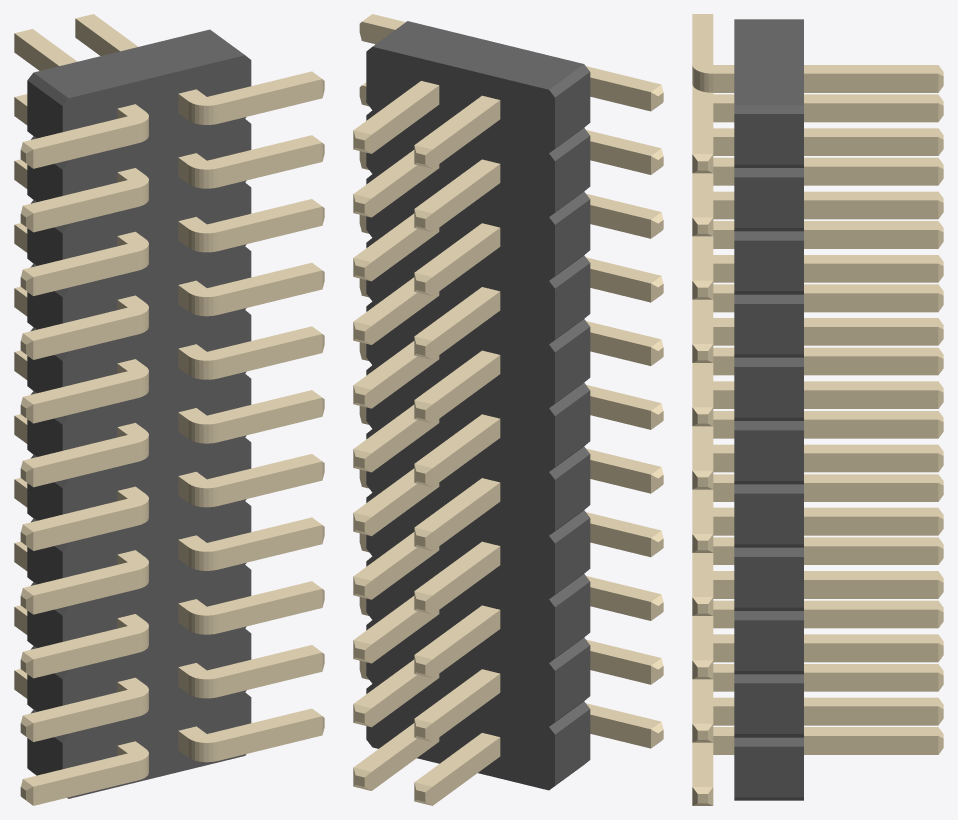
Rendered from PinHeader_2x11_P1.00mm_Vertical_SMD.glb.
The picture shows the model from 3 angles, left to right: view 1: azimuth 30°, elevation 25°; view 2: azimuth 150°, elevation 25°; view 3: azimuth 270°, elevation 25°; orthographic projection.
Parts seen in each view (by area): view 1: Shape_IndexedFaceSet.003, Shape_IndexedFaceSet.001, Shape_IndexedFaceSet.314, Shape_IndexedFaceSet.354, Shape_IndexedFaceSet.309, Shape_IndexedFaceSet.349, Shape_IndexedFaceSet.274, Shape_IndexedFaceSet.254, Shape_IndexedFaceSet.259, Shape_IndexedFaceSet.304, Shape_IndexedFaceSet.264, Shape_IndexedFaceSet.289 (+60 smaller); view 2: Shape_IndexedFaceSet.004, Shape_IndexedFaceSet.001, Shape_IndexedFaceSet.025, Shape_IndexedFaceSet.019, Shape_IndexedFaceSet.043, Shape_IndexedFaceSet.049, Shape_IndexedFaceSet.067, Shape_IndexedFaceSet.007, Shape_IndexedFaceSet.031, Shape_IndexedFaceSet.055, Shape_IndexedFaceSet.061, Shape_IndexedFaceSet.013 (+67 smaller); view 3: Shape_IndexedFaceSet.001, Shape_IndexedFaceSet.040, Shape_IndexedFaceSet.064, Shape_IndexedFaceSet.002, Shape_IndexedFaceSet.010, Shape_IndexedFaceSet.016, Shape_IndexedFaceSet.022, Shape_IndexedFaceSet.028, Shape_IndexedFaceSet.034, Shape_IndexedFaceSet.046, Shape_IndexedFaceSet.052, Shape_IndexedFaceSet.058 (+67 smaller).
Part boxes in pixels (x1,y1,x2,y2): Shape_IndexedFaceSet.003: (62, 55, 251, 798); Shape_IndexedFaceSet.001: (33, 29, 244, 98); Shape_IndexedFaceSet.314: (217, 79, 322, 123); Shape_IndexedFaceSet.354: (33, 761, 138, 805); Shape_IndexedFaceSet.309: (33, 124, 138, 168); Shape_IndexedFaceSet.349: (217, 716, 322, 760); Shape_IndexedFaceSet.274: (33, 506, 138, 550); Shape_IndexedFaceSet.254: (33, 443, 138, 487); Shape_IndexedFaceSet.259: (33, 379, 138, 423); Shape_IndexedFaceSet.304: (217, 525, 322, 569); Shape_IndexedFaceSet.264: (217, 334, 322, 378); Shape_IndexedFaceSet.289: (33, 570, 138, 614); Shape_IndexedFaceSet.004: (366, 46, 554, 790); Shape_IndexedFaceSet.001: (373, 21, 583, 89); Shape_IndexedFaceSet.025: (555, 263, 590, 339); Shape_IndexedFaceSet.019: (555, 199, 590, 275); Shape_IndexedFaceSet.043: (555, 454, 590, 530); Shape_IndexedFaceSet.049: (555, 518, 590, 594); Shape_IndexedFaceSet.067: (555, 709, 590, 785); Shape_IndexedFaceSet.007: (555, 72, 590, 148); Shape_IndexedFaceSet.031: (555, 327, 590, 402); Shape_IndexedFaceSet.055: (555, 582, 590, 657); Shape_IndexedFaceSet.061: (555, 645, 590, 721); Shape_IndexedFaceSet.013: (555, 136, 590, 211); Shape_IndexedFaceSet.001: (734, 19, 803, 104); Shape_IndexedFaceSet.040: (734, 493, 803, 544); Shape_IndexedFaceSet.064: (734, 746, 803, 797); Shape_IndexedFaceSet.002: (734, 114, 803, 164); Shape_IndexedFaceSet.010: (734, 177, 803, 227); Shape_IndexedFaceSet.016: (734, 240, 803, 290); Shape_IndexedFaceSet.022: (734, 304, 803, 354); Shape_IndexedFaceSet.028: (734, 367, 803, 417); Shape_IndexedFaceSet.034: (734, 430, 803, 480); Shape_IndexedFaceSet.046: (734, 557, 803, 607); Shape_IndexedFaceSet.052: (734, 620, 803, 670); Shape_IndexedFaceSet.058: (734, 683, 803, 733).
Bounding box in the file's own units: 1.93 × 4.33 × 1.42.
